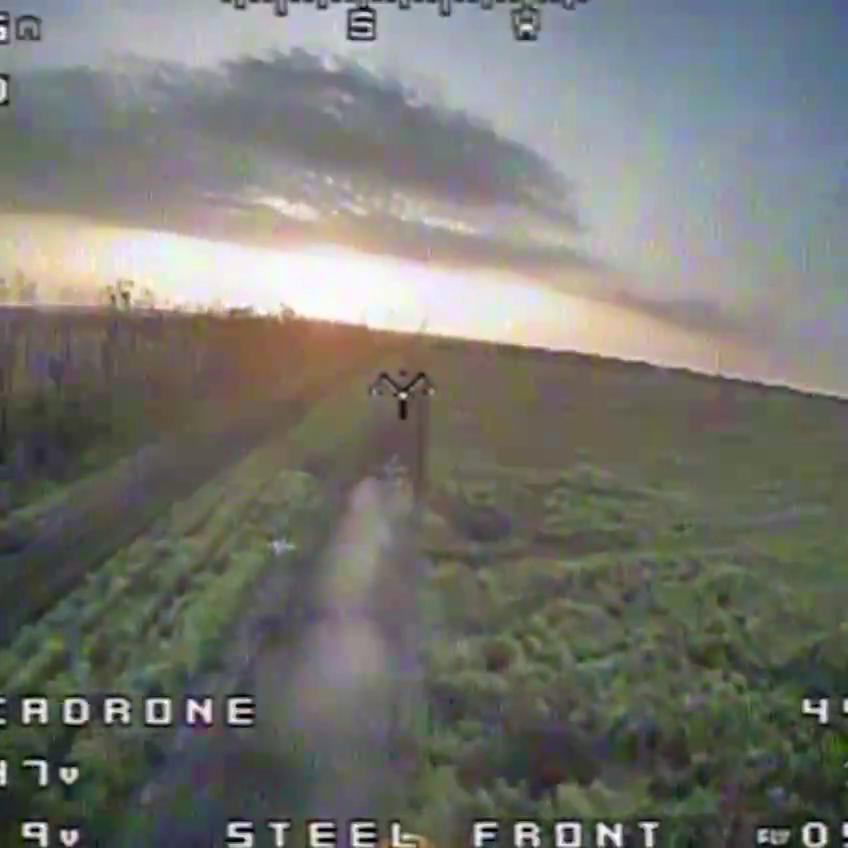tank: (350, 445, 422, 532)
